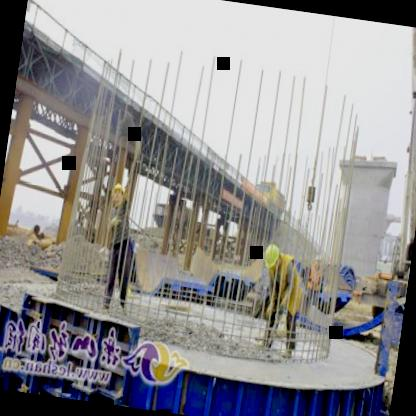helmet: (260, 238, 284, 274), (108, 176, 129, 206)
